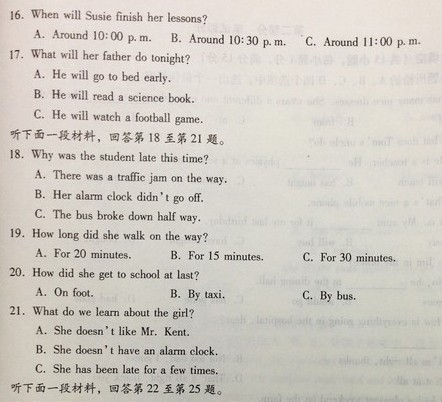text: (32, 28, 431, 46), (34, 246, 399, 265), (32, 286, 357, 302), (6, 129, 228, 146), (8, 148, 216, 166), (31, 168, 228, 186), (8, 8, 212, 25), (8, 227, 211, 244), (6, 382, 229, 397), (8, 48, 192, 66), (32, 361, 220, 378), (6, 266, 200, 282), (32, 207, 204, 225), (29, 108, 206, 125), (31, 188, 205, 205), (4, 305, 195, 320), (31, 88, 194, 105), (33, 67, 175, 86), (34, 343, 220, 356), (33, 324, 193, 338)
